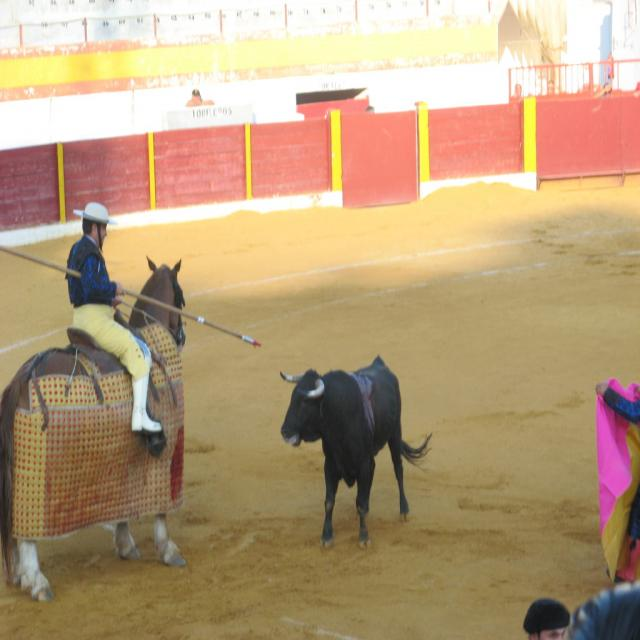Bull: (278, 349, 432, 548)
